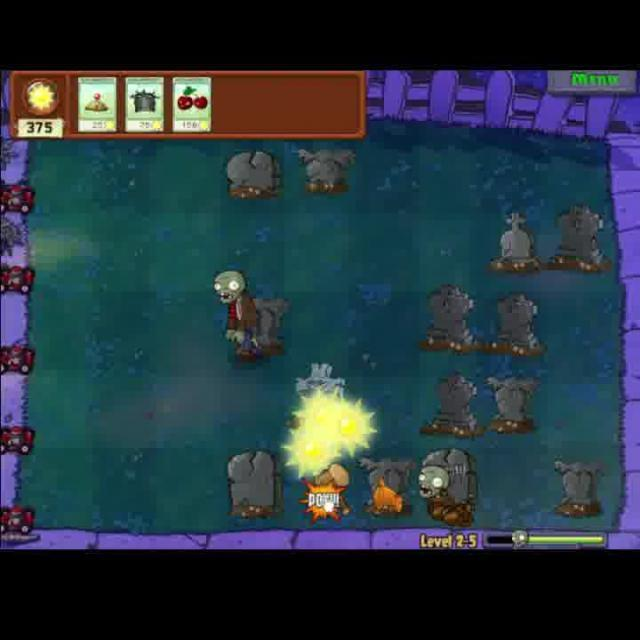sunshine: (287, 391, 380, 453), (283, 424, 337, 476)
zombies: (208, 266, 266, 364), (412, 457, 457, 519)
